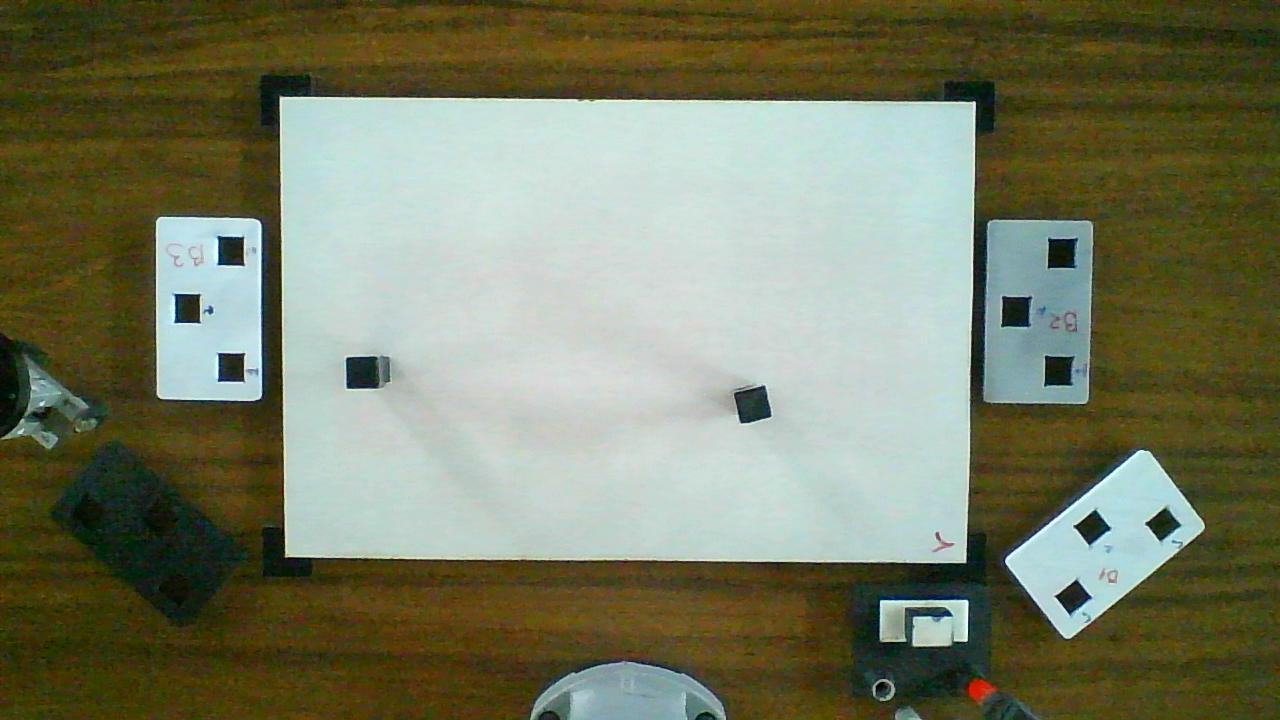peca_preta: (735, 387, 772, 424), (347, 358, 378, 389)
